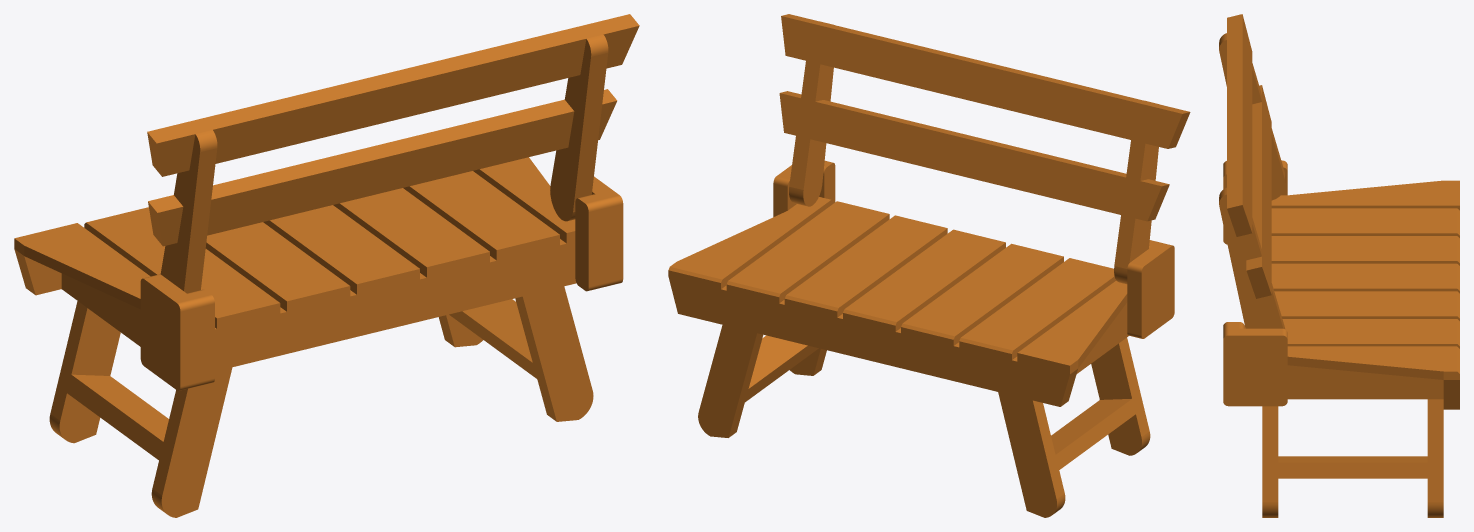
3 renders of one model, left to right at view 1: azimuth 30°, elevation 25°; view 2: azimuth 150°, elevation 25°; view 3: azimuth 270°, elevation 25°, orthographic. The views are drawn at different scales.
Parts seen in each view (by area): view 1: mesh11_mesh11-geometry, mesh23_mesh23-geometry, mesh25_mesh25-geometry, mesh13_mesh13-geometry, mesh1_mesh1-geometry, mesh21_mesh21-geometry, mesh7_mesh7-geometry, mesh37_mesh37-geometry, mesh3_mesh3-geometry, mesh19_mesh19-geometry, mesh5_mesh5-geometry, mesh9_mesh9-geometry (+2 smaller); view 2: mesh11_mesh11-geometry, mesh23_mesh23-geometry, mesh25_mesh25-geometry, mesh17_mesh17-geometry, mesh1_mesh1-geometry, mesh21_mesh21-geometry, mesh37_mesh37-geometry, mesh3_mesh3-geometry, mesh9_mesh9-geometry, mesh7_mesh7-geometry, mesh19_mesh19-geometry, mesh15_mesh15-geometry; view 3: mesh11_mesh11-geometry, mesh23_mesh23-geometry, mesh7_mesh7-geometry, mesh9_mesh9-geometry, mesh21_mesh21-geometry, mesh15_mesh15-geometry, mesh19_mesh19-geometry, mesh37_mesh37-geometry, mesh25_mesh25-geometry, mesh3_mesh3-geometry, mesh17_mesh17-geometry.
Boxes of the visible parts, box(x1,y1,x2,y2) form: mesh11_mesh11-geometry: box(84, 171, 559, 328); mesh23_mesh23-geometry: box(147, 14, 639, 176); mesh25_mesh25-geometry: box(148, 89, 617, 246); mesh13_mesh13-geometry: box(215, 239, 576, 371); mesh1_mesh1-geometry: box(49, 301, 232, 517); mesh21_mesh21-geometry: box(160, 34, 608, 293); mesh7_mesh7-geometry: box(140, 176, 623, 390); mesh37_mesh37-geometry: box(438, 286, 593, 421); mesh3_mesh3-geometry: box(67, 299, 536, 459); mesh19_mesh19-geometry: box(14, 223, 150, 309); mesh5_mesh5-geometry: box(187, 194, 605, 386); mesh9_mesh9-geometry: box(473, 157, 575, 243); mesh11_mesh11-geometry: box(726, 201, 1116, 360); mesh23_mesh23-geometry: box(781, 14, 1190, 148); mesh25_mesh25-geometry: box(779, 91, 1169, 221); mesh17_mesh17-geometry: box(668, 276, 1077, 406); mesh1_mesh1-geometry: box(998, 338, 1150, 517); mesh21_mesh21-geometry: box(789, 21, 1158, 284); mesh37_mesh37-geometry: box(698, 325, 826, 437); mesh3_mesh3-geometry: box(745, 335, 1135, 469); mesh9_mesh9-geometry: box(668, 197, 831, 289); mesh7_mesh7-geometry: box(773, 165, 1174, 338); mesh19_mesh19-geometry: box(1017, 280, 1127, 374); mesh15_mesh15-geometry: box(1076, 302, 1128, 373); mesh11_mesh11-geometry: box(1244, 208, 1459, 348); mesh23_mesh23-geometry: box(1227, 14, 1252, 236); mesh7_mesh7-geometry: box(1223, 160, 1287, 406); mesh9_mesh9-geometry: box(1287, 346, 1459, 379); mesh21_mesh21-geometry: box(1219, 33, 1285, 328); mesh15_mesh15-geometry: box(1287, 365, 1443, 399); mesh19_mesh19-geometry: box(1271, 180, 1459, 210); mesh37_mesh37-geometry: box(1262, 399, 1443, 517); mesh25_mesh25-geometry: box(1246, 85, 1271, 298); mesh3_mesh3-geometry: box(1278, 456, 1427, 478); mesh17_mesh17-geometry: box(1443, 380, 1459, 409).
Size of the model in its own units: 0.7213 by 0.5769 by 0.3833.
